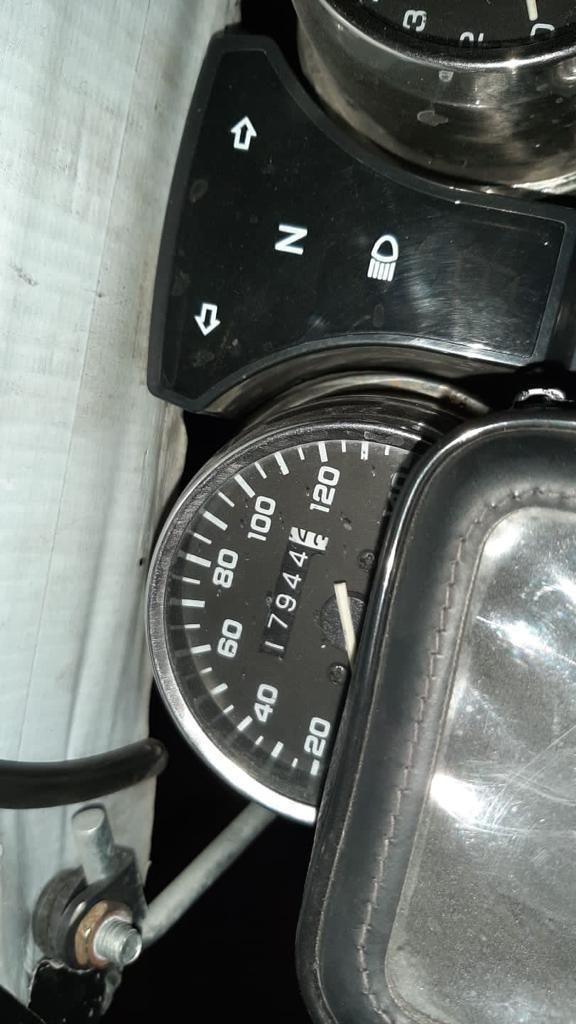1: (262, 637, 289, 653), (246, 531, 267, 541)
2: (286, 524, 308, 542)
3: (313, 529, 330, 549)
4: (283, 548, 310, 567), (277, 570, 302, 589)
7: (264, 612, 289, 631)
9: (273, 592, 298, 611)
odometer: (255, 524, 331, 661)
